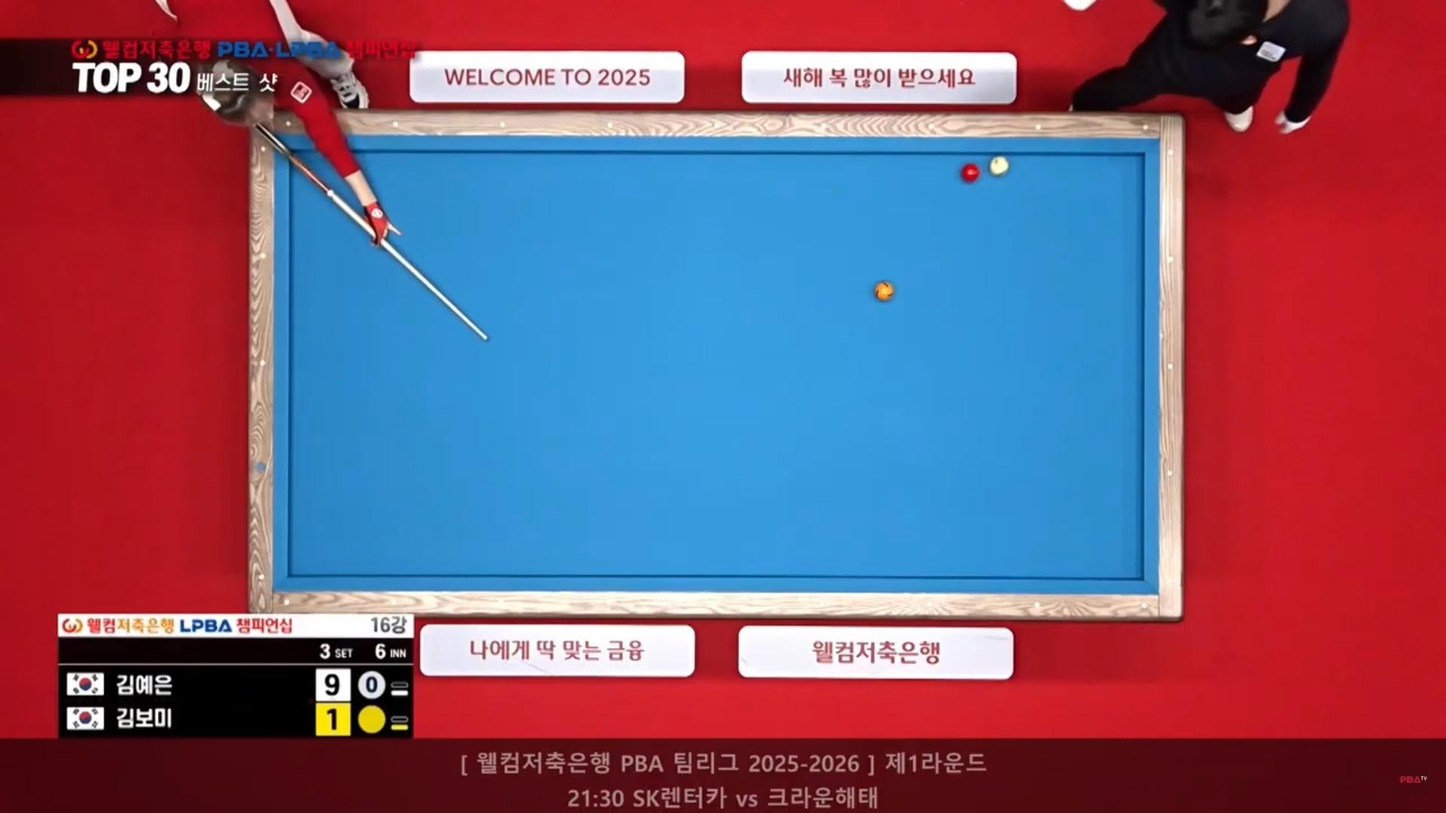-billiard-ball: (873, 280, 894, 301)
Red: (959, 164, 981, 183)
White: (991, 158, 1014, 179)
Yellow: (872, 281, 896, 300)
